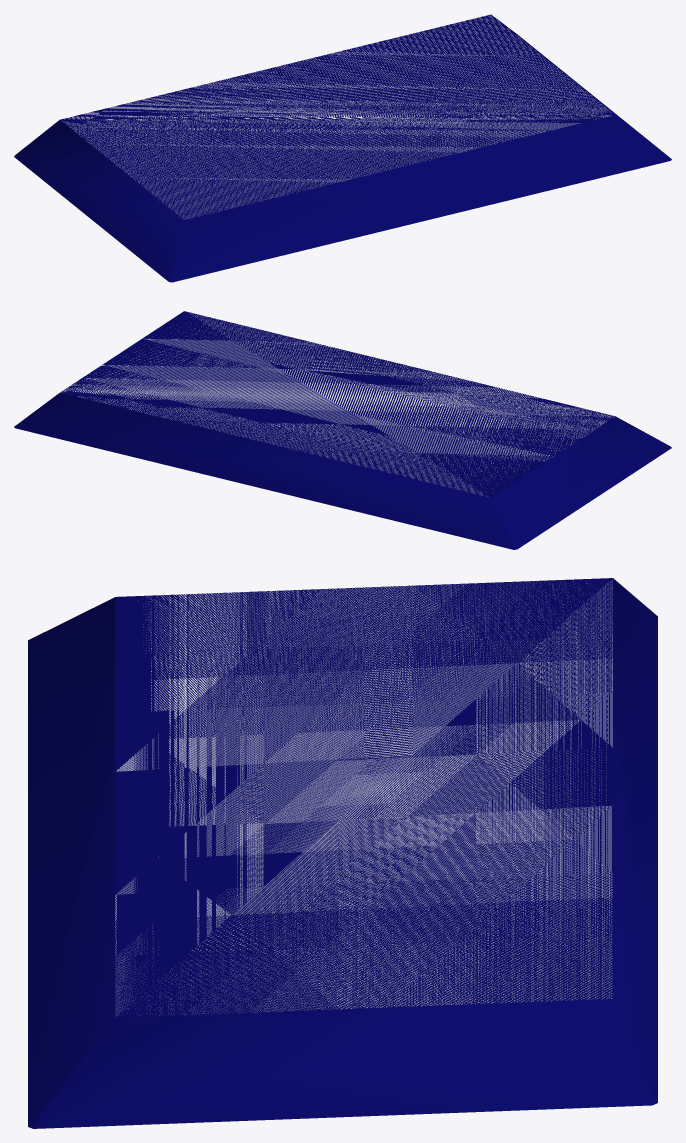
File: original-6.obj
The picture shows the model from 3 angles, top to bottom: view 1: azimuth 30°, elevation 25°; view 2: azimuth 150°, elevation 25°; view 3: azimuth 270°, elevation 25°; orthographic projection. The views are drawn at different scales.
Visible parts, largest first — view 1: Group6/mesh4/mesh4-geometry#mesh4-geometry; view 2: Group6/mesh4/mesh4-geometry#mesh4-geometry; view 3: Group6/mesh4/mesh4-geometry#mesh4-geometry.
Part boxes in pixels (bbox=[...]): Group6/mesh4/mesh4-geometry#mesh4-geometry: bbox=[14, 14, 671, 282]; Group6/mesh4/mesh4-geometry#mesh4-geometry: bbox=[14, 311, 671, 549]; Group6/mesh4/mesh4-geometry#mesh4-geometry: bbox=[28, 578, 657, 1128].
Bounding box in the file's own units: 0.1319 × 0.0119 × 0.0715.
